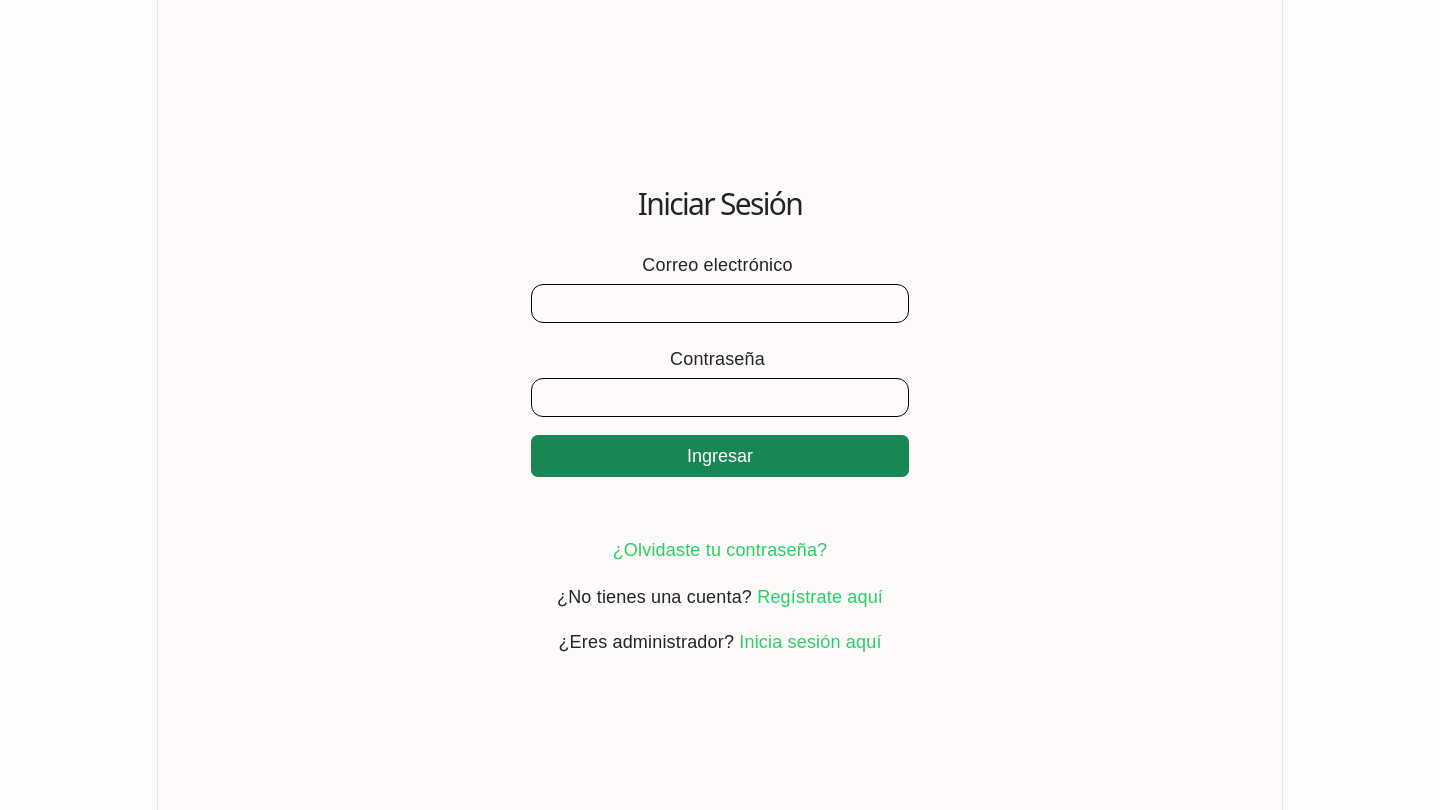
it: Pruebas Unitarias - Módulo Login (Nutrivida) › 5. Muestra un error si el usuario no está registrado
Type "lore@hotmail.cl" into the field labelled "Correo electrónico" at coordinates (720, 303), box [531, 284, 909, 323]
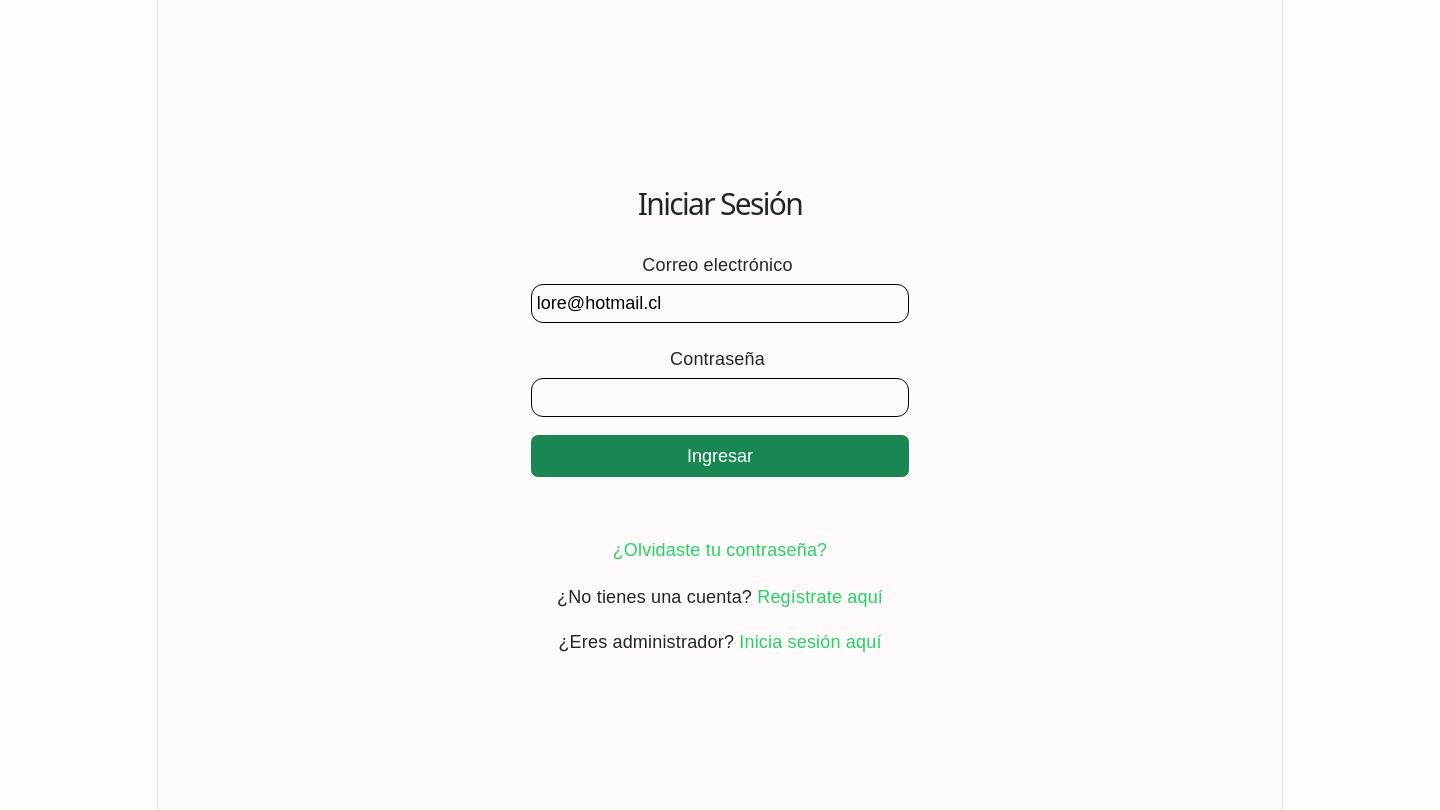
Type "Flores123." into the password field labelled "Contraseña" at coordinates (720, 397), box [531, 378, 909, 417]
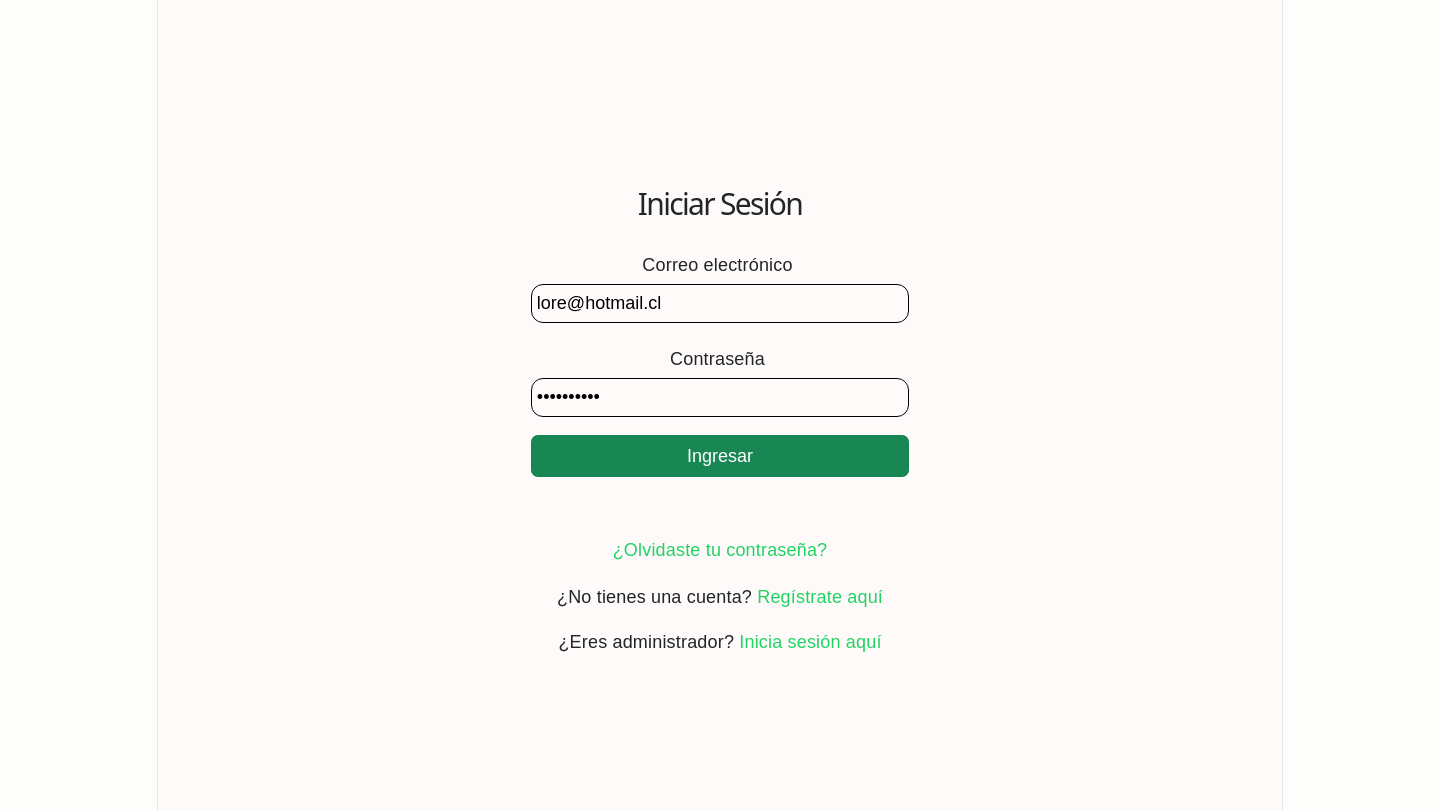
Submit the form "Iniciar Sesión Correo electrónico Contraseña Ingresar", box [511, 156, 929, 497]
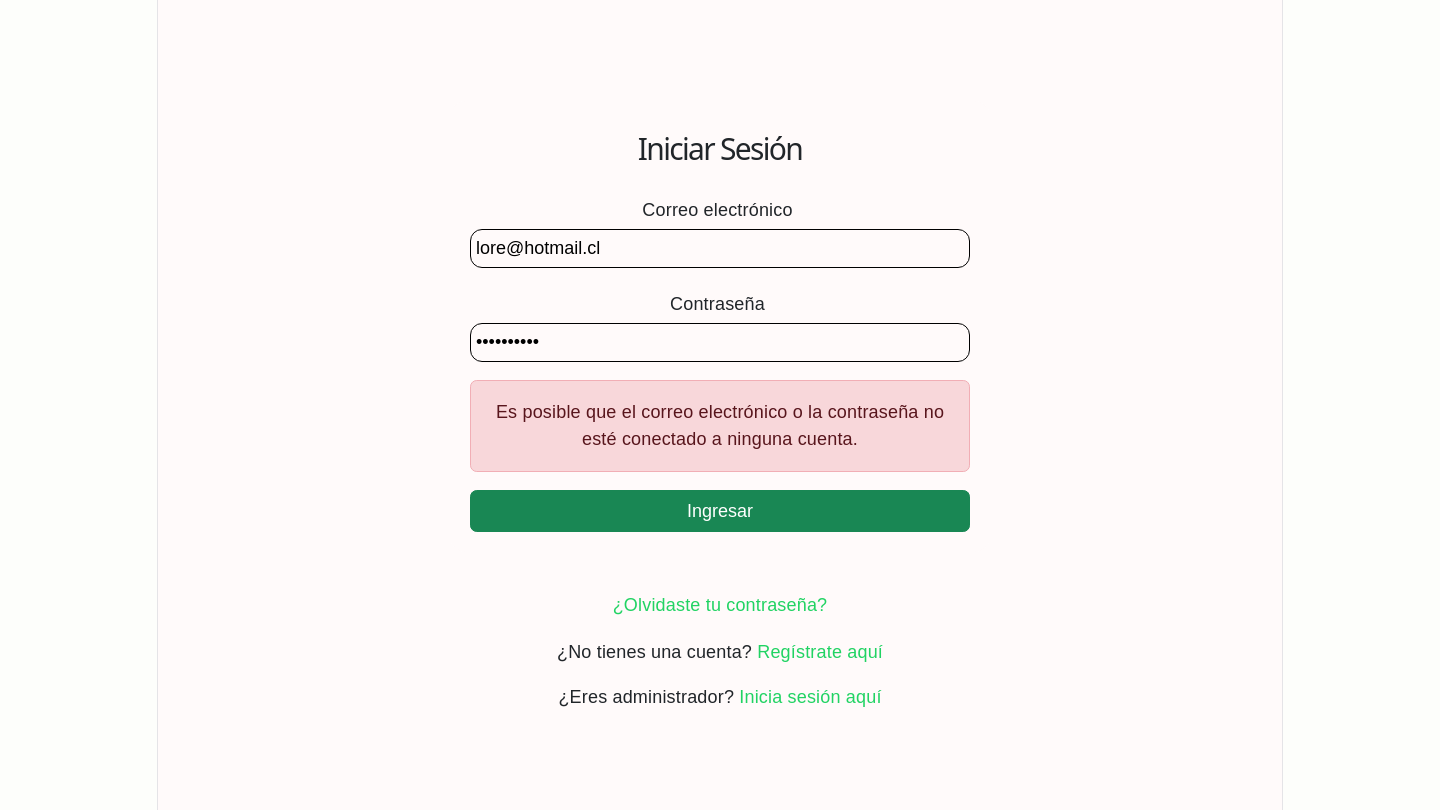
expect the text "Es posible que el correo electrónico o la contraseña no esté conectado a ninguna cuenta." is shown: met, box [496, 402, 944, 449]
